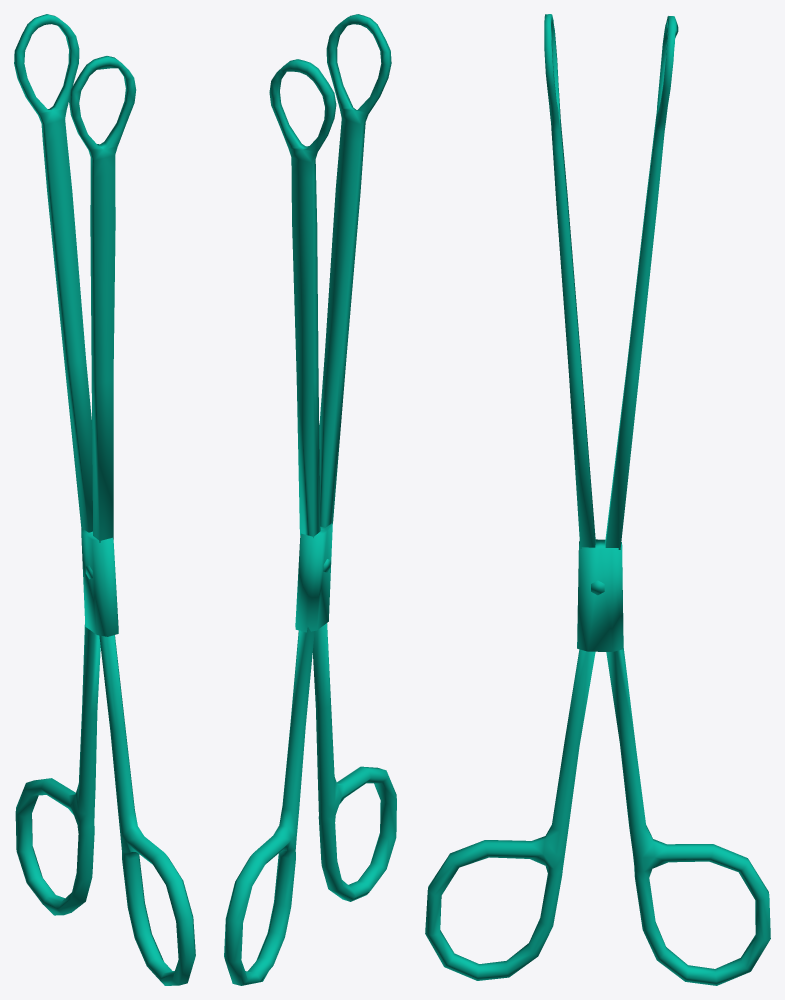
File: rampley.fbx
3 views of the same model, side by side, from view 1: azimuth 30°, elevation 25°; view 2: azimuth 150°, elevation 25°; view 3: azimuth 270°, elevation 25° (orthographic). The views are drawn at different scales.
Parts seen in each view (by area): view 1: L.Handle, R.Handle, Surgical Scissors Type H; view 2: R.Handle, L.Handle, Surgical Scissors Type H; view 3: R.Handle, L.Handle, Surgical Scissors Type H.
Boxes of the visible parts, x1=… form: L.Handle: x1=14, y1=14, x2=195, y2=985; R.Handle: x1=15, y1=56, x2=136, y2=915; Surgical Scissors Type H: x1=81, y1=528, x2=118, y2=636; R.Handle: x1=224, y1=14, x2=391, y2=985; L.Handle: x1=269, y1=59, x2=396, y2=901; Surgical Scissors Type H: x1=295, y1=523, x2=332, y2=632; R.Handle: x1=544, y1=14, x2=770, y2=985; L.Handle: x1=425, y1=16, x2=678, y2=980; Surgical Scissors Type H: x1=577, y1=539, x2=623, y2=651.
Size of the model in its own units: 34.53 by 419 by 138.
